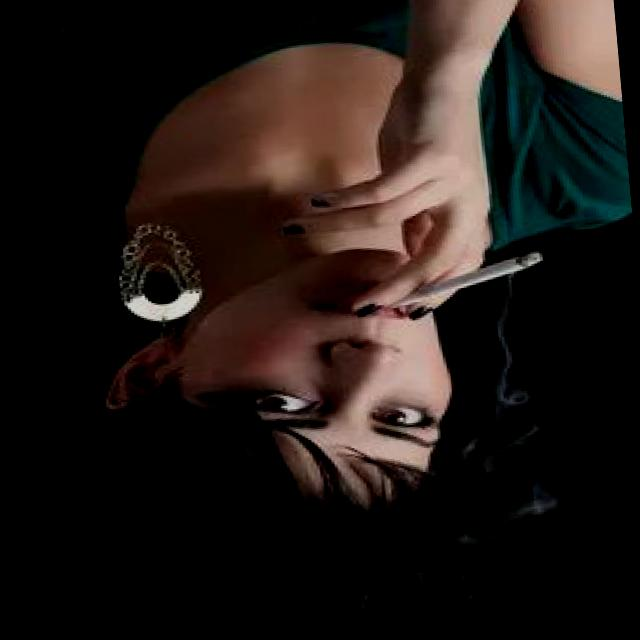smoke: (371, 250, 548, 313)
